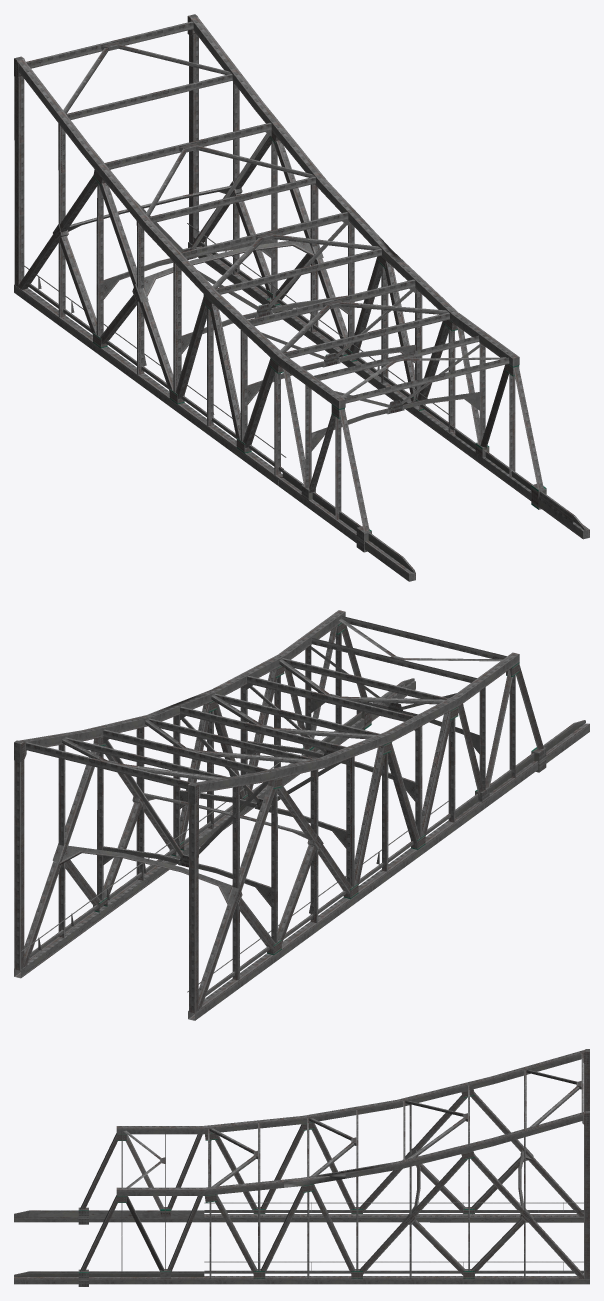
The model's file is BRIDGE.fbx.
3 renders of one model, top to bottom at view 1: azimuth 30°, elevation 25°; view 2: azimuth 150°, elevation 25°; view 3: azimuth 270°, elevation 25°, orthographic. The views are drawn at different scales.
Parts seen in each view (by area): view 1: Object_18.001, Object_18; view 2: Object_18.001, Object_18; view 3: Object_18.001, Object_18.
Part boxes in pixels (left/top/right/bottom): Object_18.001: left=14, top=14, right=458, bottom=485; Object_18: left=278, top=313, right=589, bottom=581; Object_18.001: left=14, top=654, right=459, bottom=1020; Object_18: left=279, top=610, right=589, bottom=826; Object_18.001: left=204, top=1049, right=589, bottom=1284; Object_18: left=14, top=1126, right=204, bottom=1286.
Bounding box in the file's own units: 220 × 273 × 822.
1 material, 1 textured.
